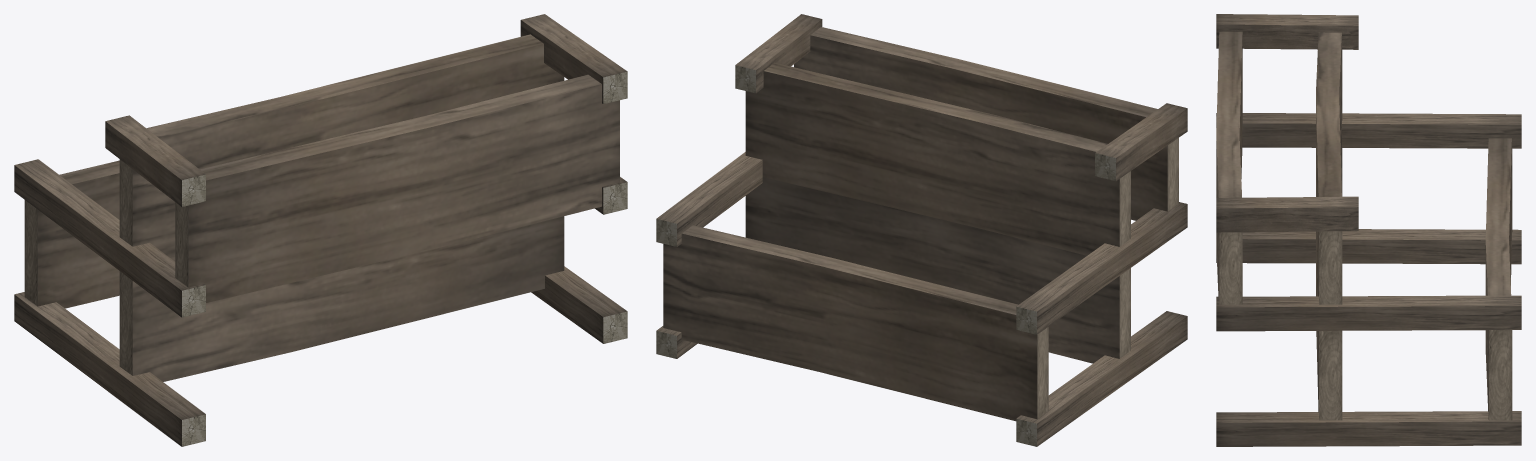
The model's file is Counter_Type_01_D.fbx.
3 views of the same model, side by side, from view 1: azimuth 30°, elevation 25°; view 2: azimuth 150°, elevation 25°; view 3: azimuth 270°, elevation 25° (orthographic). The views are drawn at different scales.
Parts seen in each view (by area): view 1: Counter_Type_01_D; view 2: Counter_Type_01_D; view 3: Counter_Type_01_D.
Boxes of the visible parts, <box> form: Counter_Type_01_D: <box>14,14,627,446</box>; Counter_Type_01_D: <box>656,14,1187,446</box>; Counter_Type_01_D: <box>1216,14,1521,446</box>.
Bounding box in the file's own units: 3.37 × 1.93 × 2.24.
